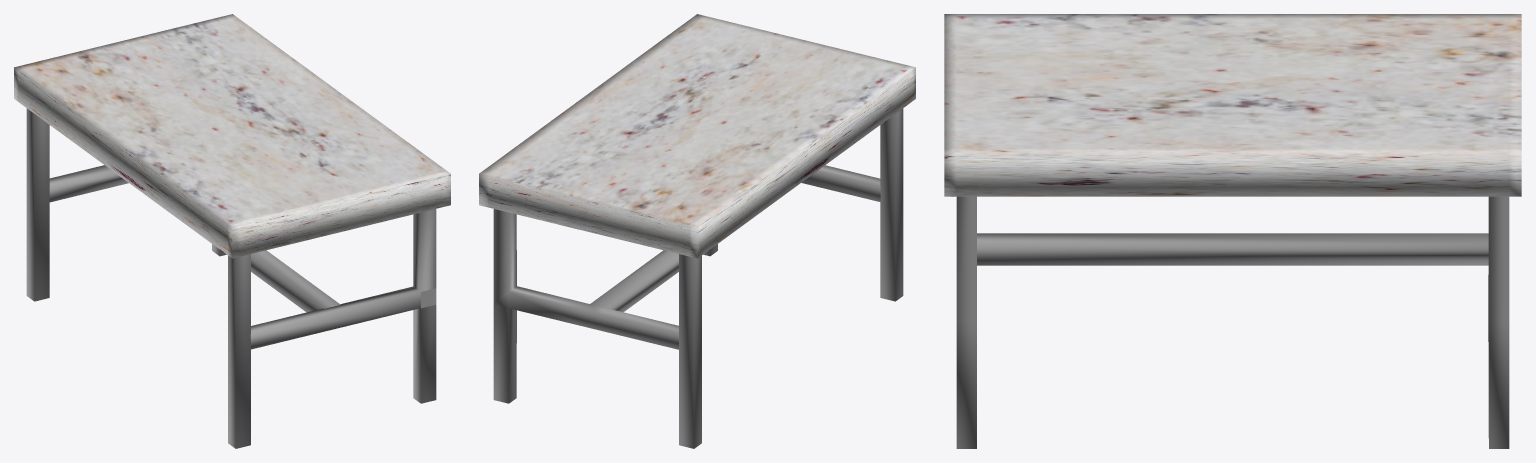
The model's file is MESA OPTICA.fbx.
The picture shows the model from 3 angles, left to right: view 1: azimuth 30°, elevation 25°; view 2: azimuth 150°, elevation 25°; view 3: azimuth 270°, elevation 25°; orthographic projection. The views are drawn at different scales.
Parts seen in each view (by area): view 1: Cube; view 2: Cube; view 3: Cube.
Boxes of the visible parts, left/top/right/bottom form: Cube: left=14, top=14, right=450, bottom=448; Cube: left=479, top=14, right=915, bottom=448; Cube: left=944, top=14, right=1521, bottom=448.
Bounding box in the file's own units: 1.1 × 1.09 × 1.9.
2 materials, 1 textured.
